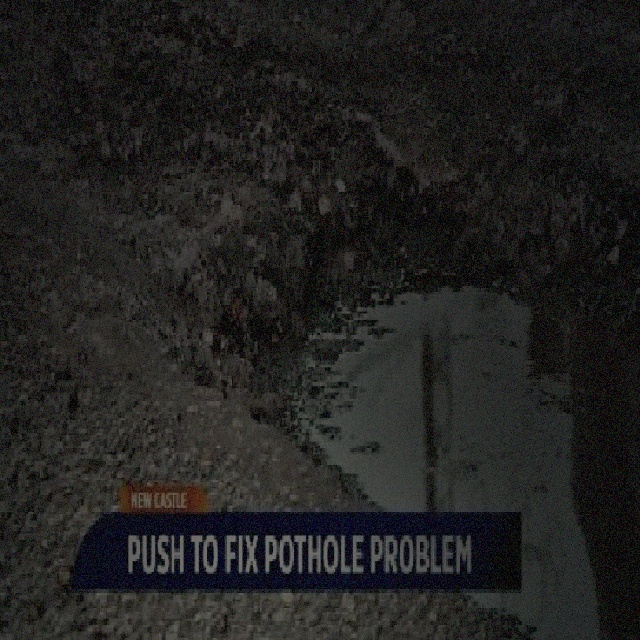pothole: (159, 124, 639, 638)
